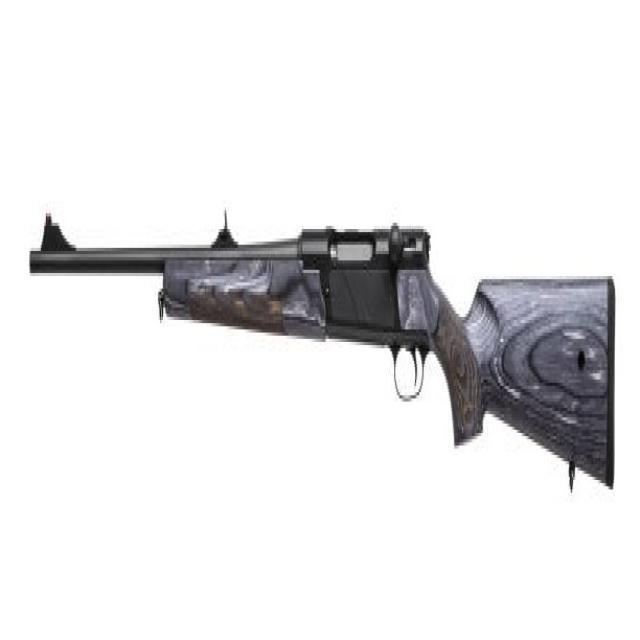rifle: (29, 201, 620, 507)
